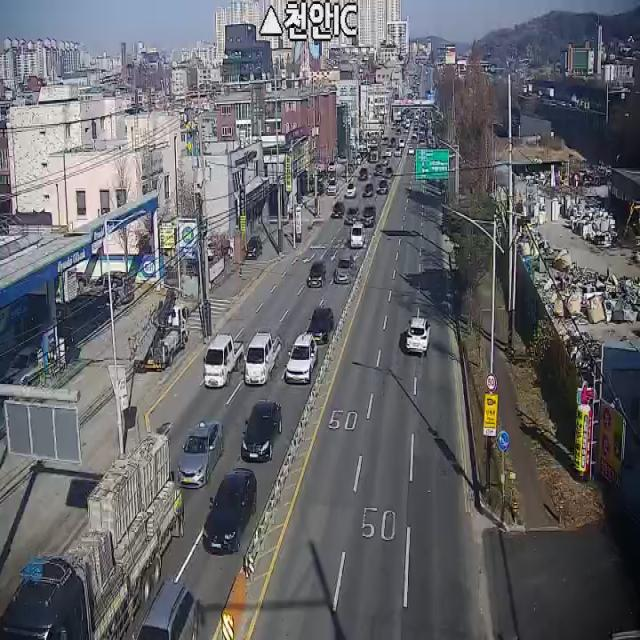Car: (202, 469, 258, 556), (132, 581, 199, 640), (177, 421, 225, 488), (241, 398, 282, 461), (203, 333, 244, 388), (245, 332, 281, 386), (285, 332, 319, 384), (6, 345, 44, 384), (90, 271, 132, 306), (307, 307, 334, 343), (406, 318, 432, 354), (335, 255, 356, 283), (308, 260, 327, 288), (350, 221, 366, 249), (245, 237, 262, 260), (344, 206, 360, 225), (362, 205, 377, 225), (344, 178, 358, 199), (332, 201, 345, 219), (377, 178, 390, 195), (327, 177, 339, 195), (362, 182, 374, 198), (314, 160, 327, 173), (359, 167, 368, 181), (335, 154, 344, 167), (328, 162, 336, 174)
Truck: (0, 434, 184, 640), (129, 287, 189, 372)
